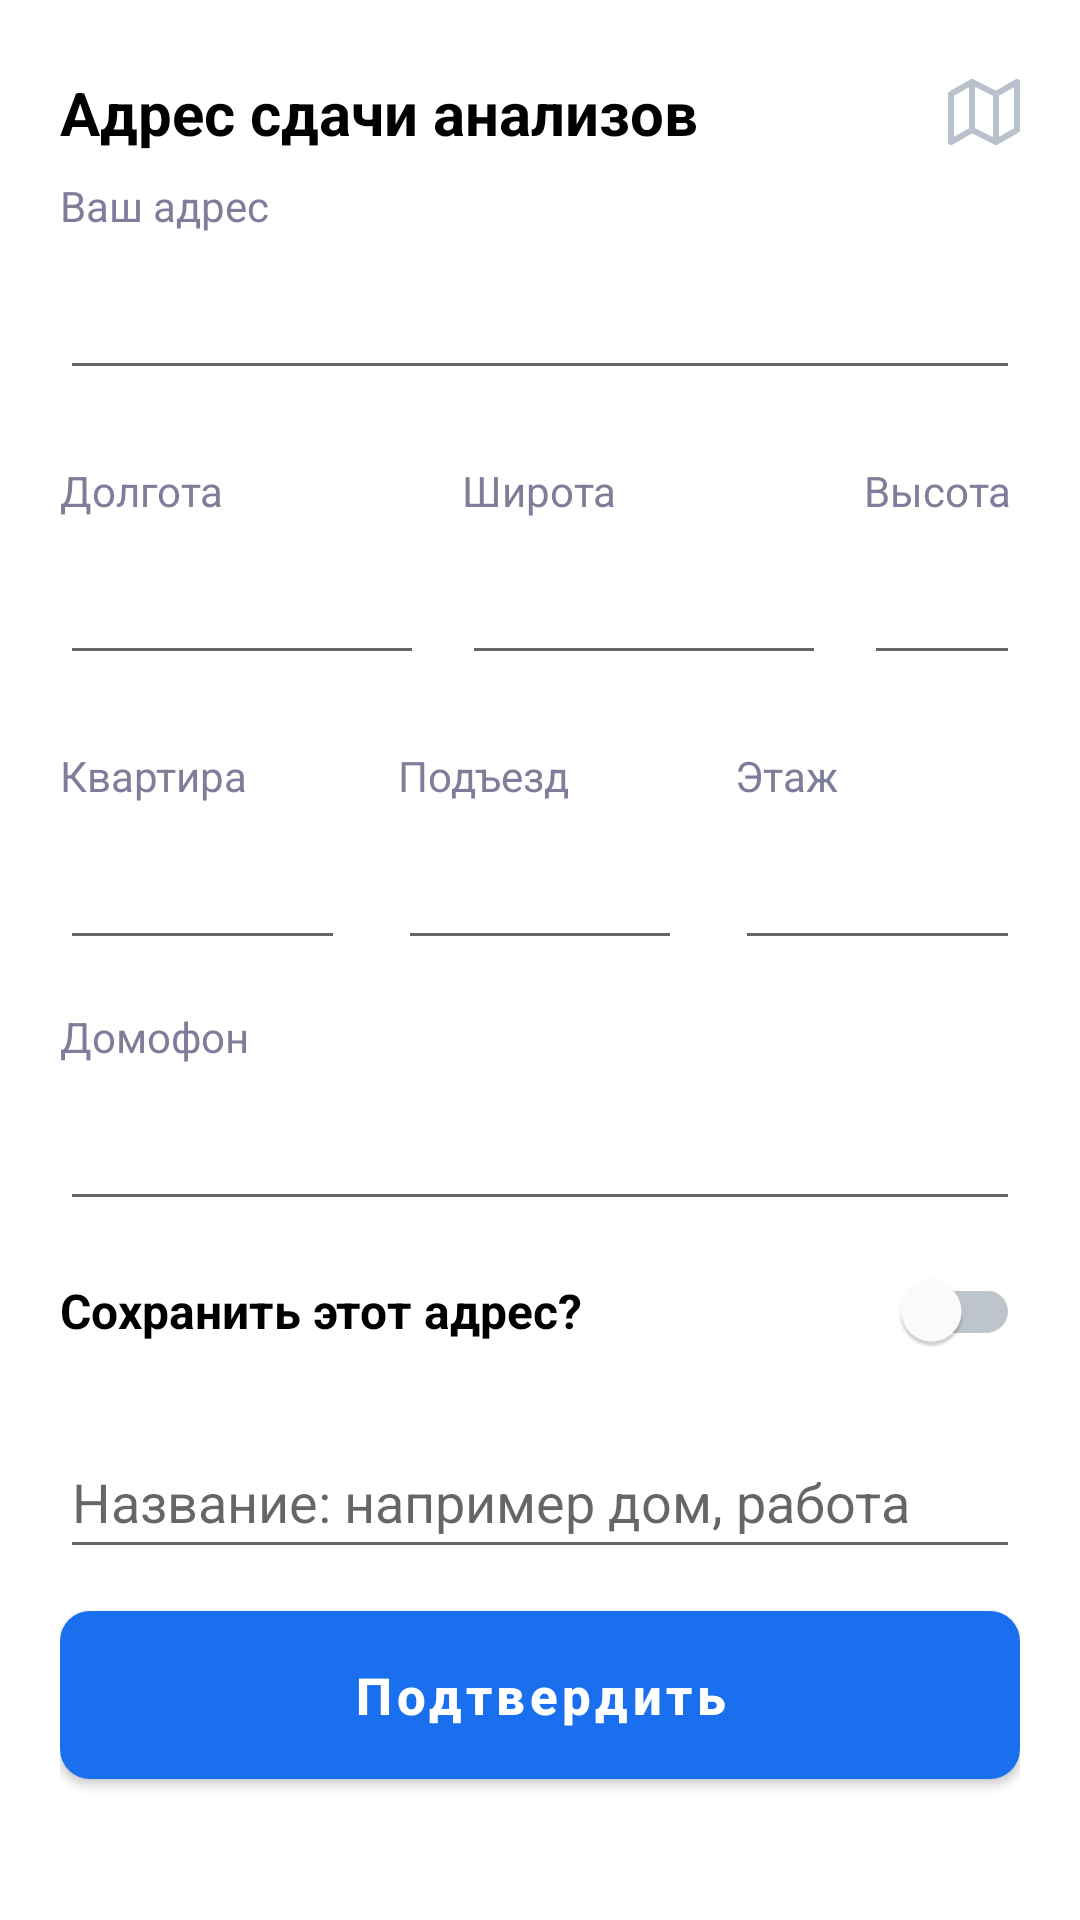

Icon bounding boxes for this 1080 × 1920 phone screenshot, format (x1, y1, x2, y2):
map: (948, 79, 1020, 145)
